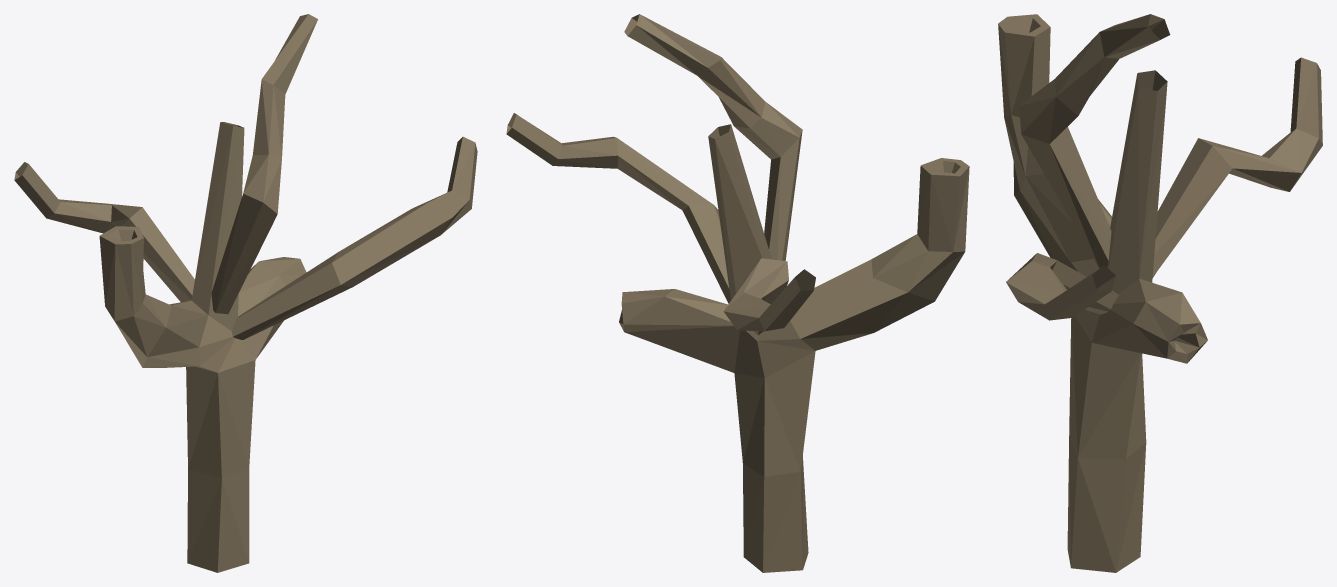
File: Apple_7_2.fbx
The picture shows the model from 3 angles, left to right: view 1: azimuth 30°, elevation 25°; view 2: azimuth 150°, elevation 25°; view 3: azimuth 270°, elevation 25°; orthographic projection. The views are drawn at different scales.
Visible parts, largest first — view 1: Apple_7_2; view 2: Apple_7_2; view 3: Apple_7_2.
Part boxes in pixels (bbox=[...]): Apple_7_2: bbox=[14, 14, 477, 572]; Apple_7_2: bbox=[506, 14, 969, 572]; Apple_7_2: bbox=[998, 14, 1322, 572].
Size of the model in its own units: 272 by 325 by 157.
